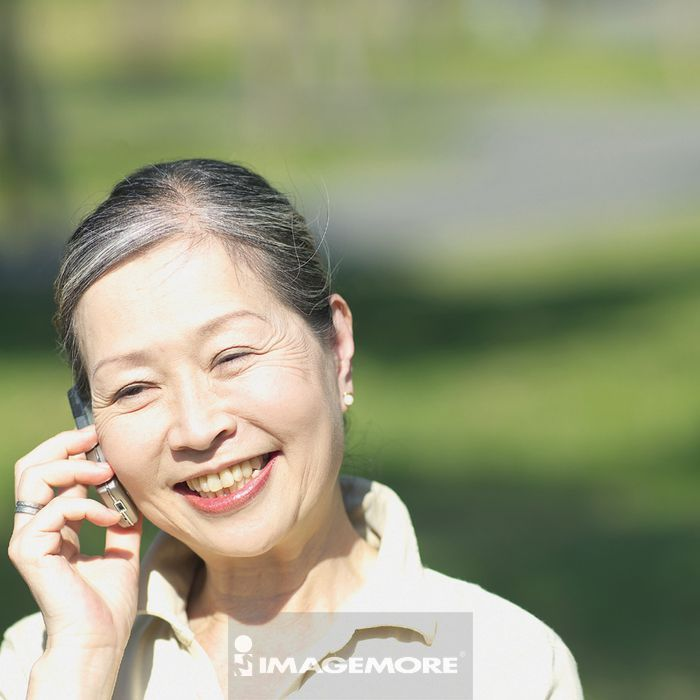talk: (9, 306, 301, 645)
